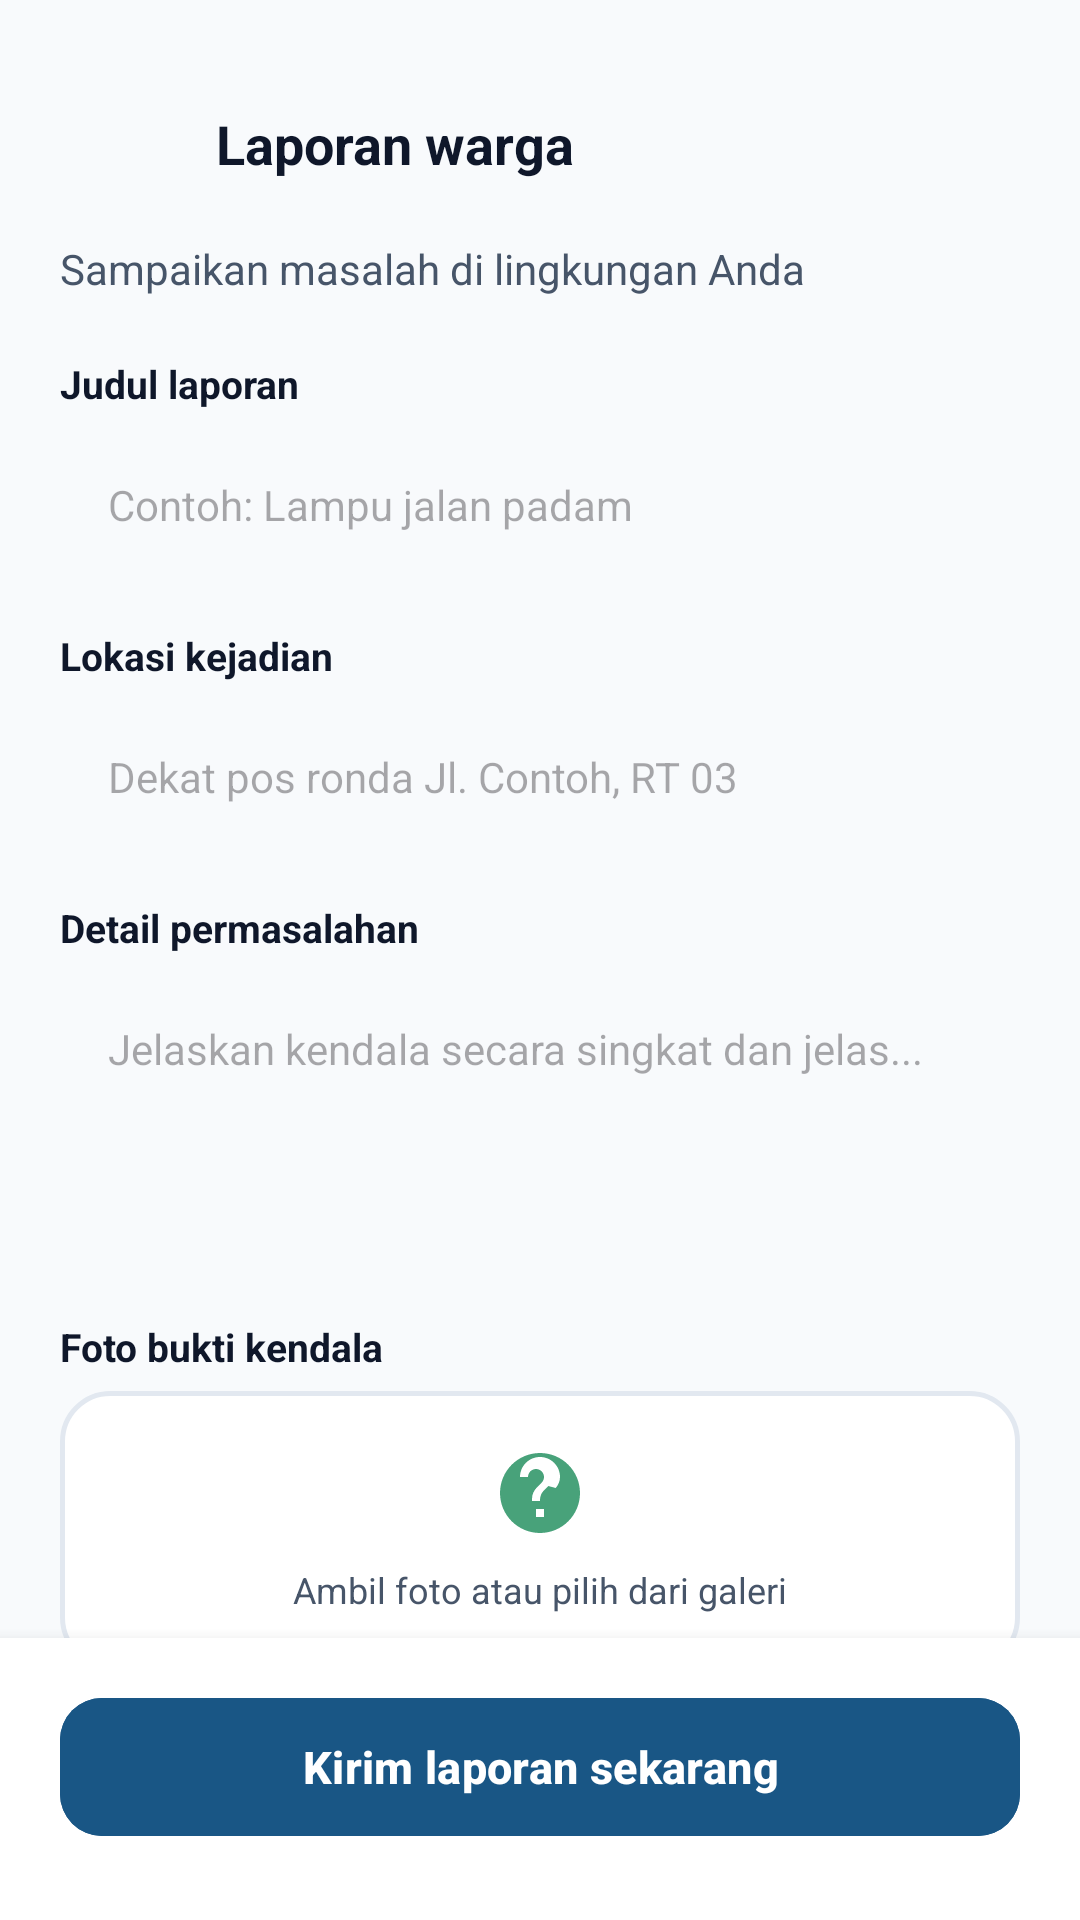

Locate icon controls on the screen. Image size 1080*1920, boxes as (x1,y1,x2,y2).
help support: (500,1453,580,1533)
